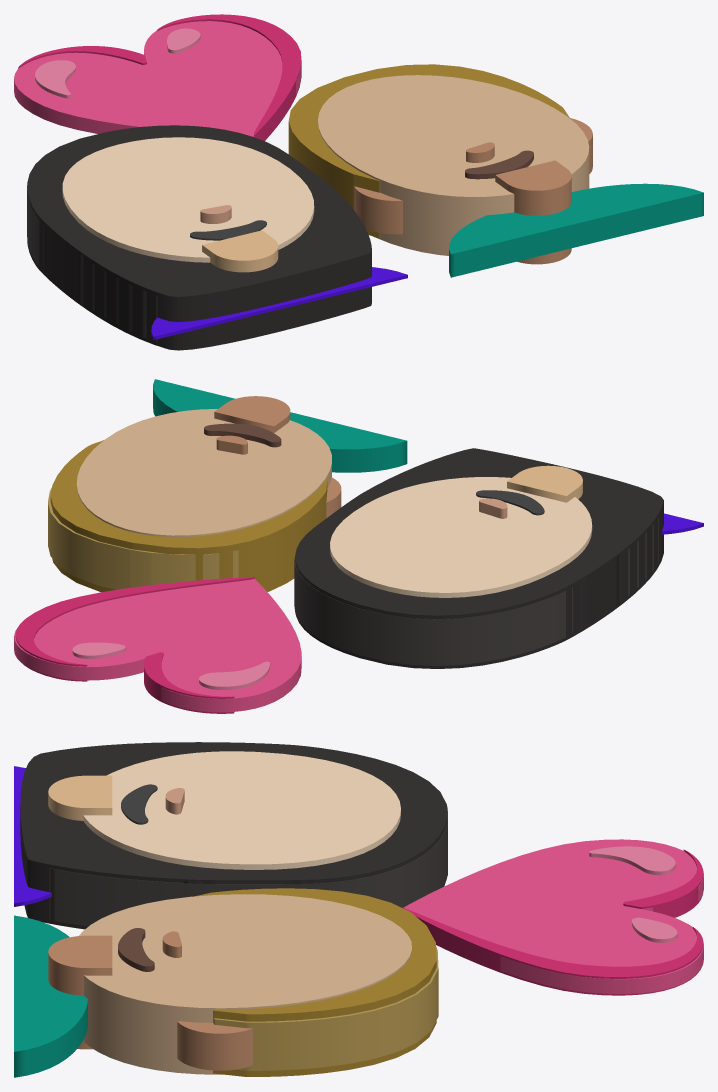
Rendered from emoji_u1f469_1f3fb_200d_2764_200d_1f468_1f3fc.glb.
3 views of the same model, one above another, from view 1: azimuth 30°, elevation 25°; view 2: azimuth 150°, elevation 25°; view 3: azimuth 270°, elevation 25° (orthographic). The views are drawn at different scales.
Visible parts, largest first — view 1: emoji_u1f469_1f3fb_200d_2764_200d_1f468_1f3fc; view 2: emoji_u1f469_1f3fb_200d_2764_200d_1f468_1f3fc; view 3: emoji_u1f469_1f3fb_200d_2764_200d_1f468_1f3fc.
Part boxes in pixels (x1,y1,x2,y2): emoji_u1f469_1f3fb_200d_2764_200d_1f468_1f3fc: [14, 14, 703, 350]; emoji_u1f469_1f3fb_200d_2764_200d_1f468_1f3fc: [14, 379, 703, 713]; emoji_u1f469_1f3fb_200d_2764_200d_1f468_1f3fc: [14, 742, 703, 1077].
Size of the model in its own units: 0.0345 by 0.005 by 0.0338.
